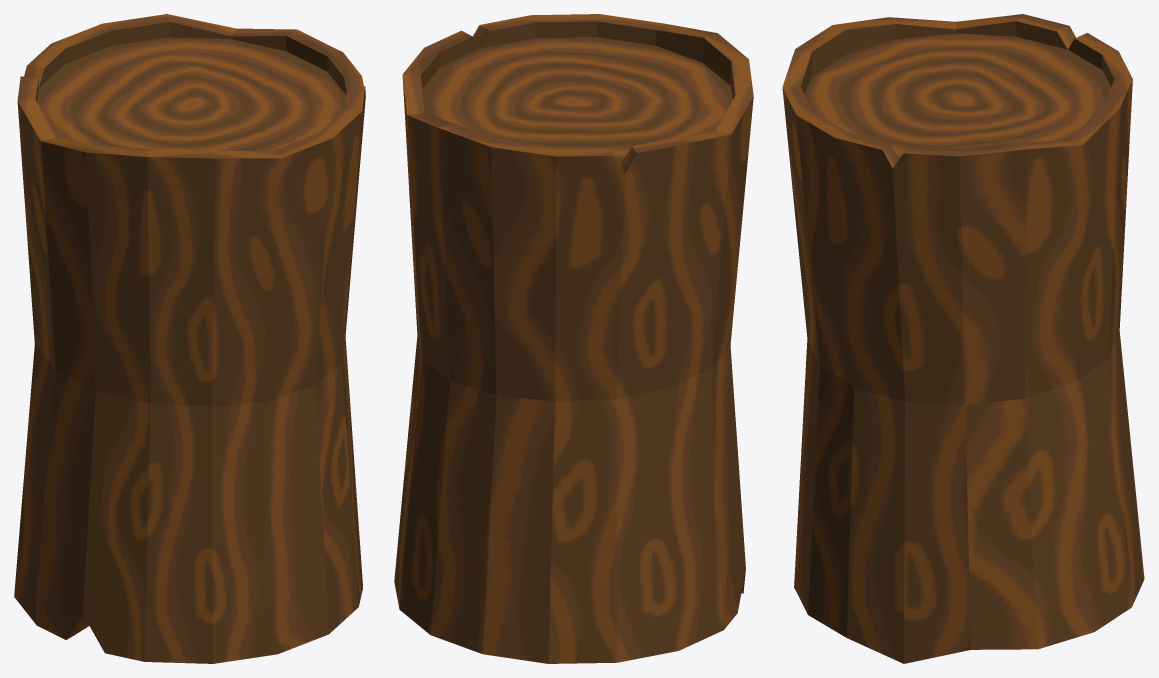
File: TreeLog-2.glb
3 renders of one model, left to right at view 1: azimuth 30°, elevation 25°; view 2: azimuth 150°, elevation 25°; view 3: azimuth 270°, elevation 25°, orthographic.
Visible parts, largest first — view 1: Cylinder.029; view 2: Cylinder.029; view 3: Cylinder.029.
Part boxes in pixels (x1,y1,x2,y2): Cylinder.029: (14, 14, 365, 663); Cylinder.029: (394, 14, 753, 663); Cylinder.029: (782, 14, 1144, 663).
Size of the model in its own units: 0.4 by 0.6481 by 0.4113.
Materials: 1 (1 with a texture image).
